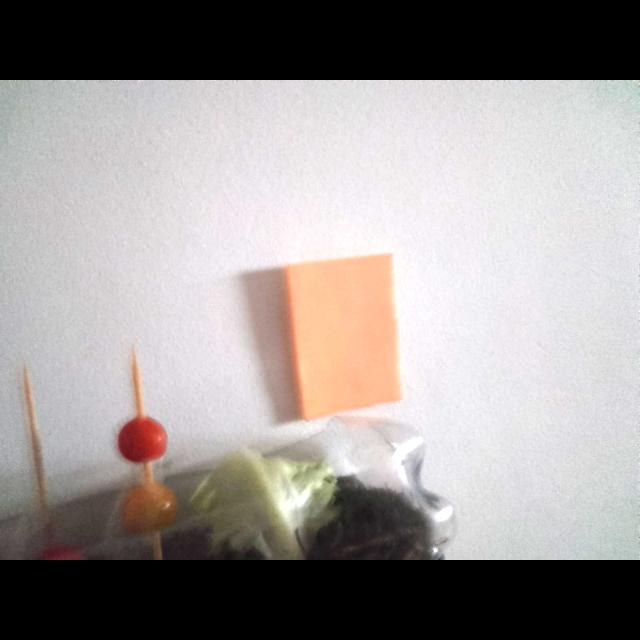card: (285, 255, 402, 419)
fruit_maturation: (122, 481, 177, 534)
fully_grown: (118, 417, 167, 463)
